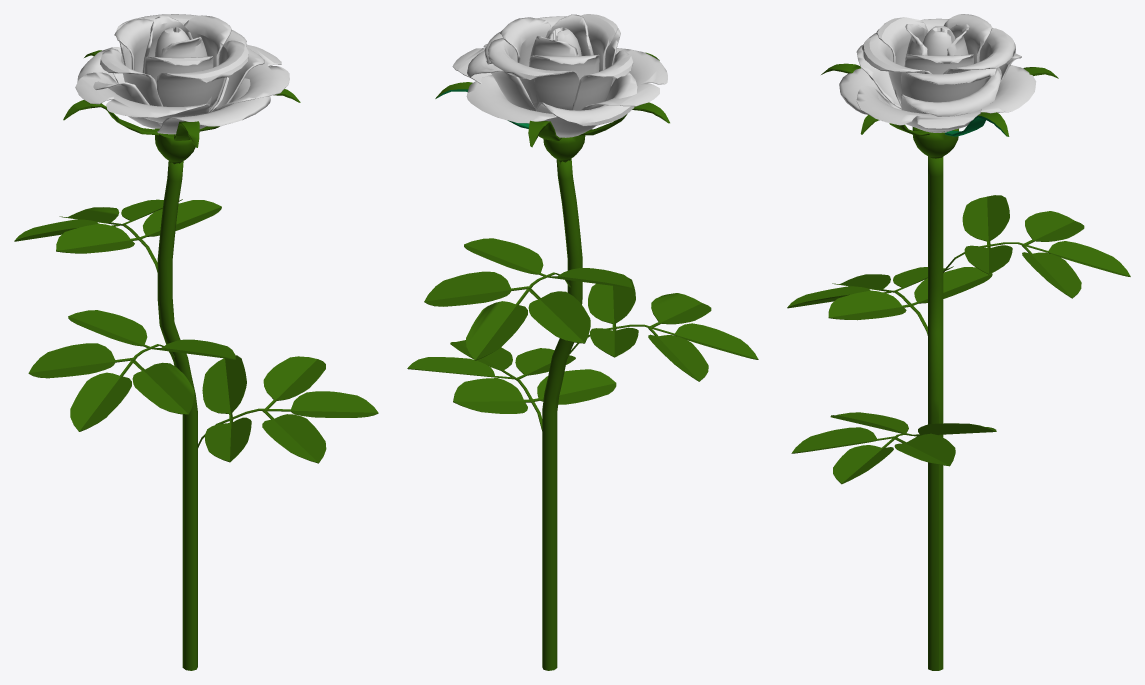
The picture shows the model from 3 angles, left to right: view 1: azimuth 30°, elevation 25°; view 2: azimuth 150°, elevation 25°; view 3: azimuth 270°, elevation 25°; orthographic projection.
Parts seen in each view (by area): view 1: rose.dxf_001; view 2: rose.dxf_001; view 3: rose.dxf_001.
Part boxes in pixels (<box>): rose.dxf_001: <box>14,14,378,670</box>; rose.dxf_001: <box>407,14,758,670</box>; rose.dxf_001: <box>787,14,1130,670</box>.
Bounding box in the file's own units: 8.37 × 17.04 × 8.36.
